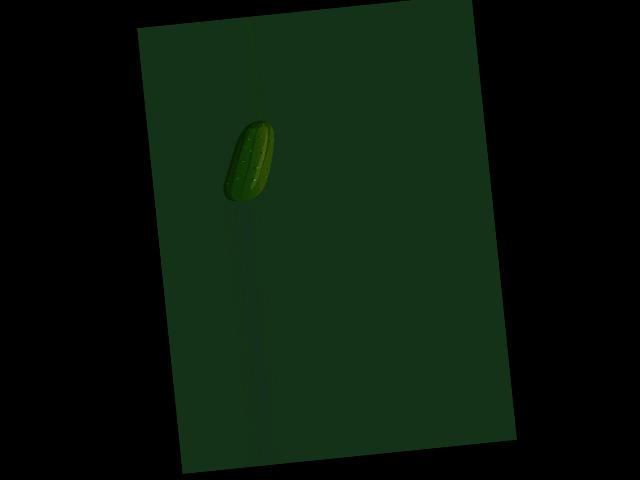cucumber: (216, 119, 280, 203)
